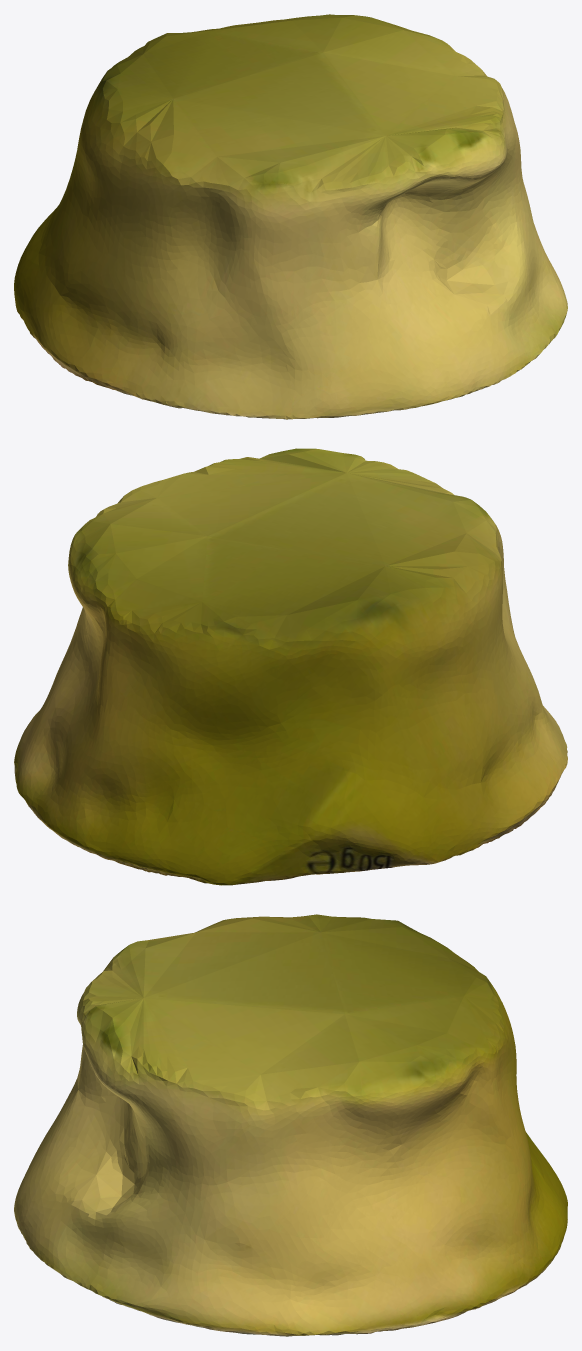
File: yogurt.obj
3 renders of one model, top to bottom at view 1: azimuth 30°, elevation 25°; view 2: azimuth 150°, elevation 25°; view 3: azimuth 270°, elevation 25°, orthographic. The views are drawn at different scales.
Visible parts, largest first — view 1: Mesh_0.001; view 2: Mesh_0.001; view 3: Mesh_0.001.
Boxes of the visible parts, left/top/right/bottom form: Mesh_0.001: left=14, top=14, right=567, bottom=419; Mesh_0.001: left=14, top=448, right=567, bottom=885; Mesh_0.001: left=14, top=914, right=567, bottom=1336.
Size of the model in its own units: 0.074 by 0.036 by 0.0748.
1 material, 1 textured.
